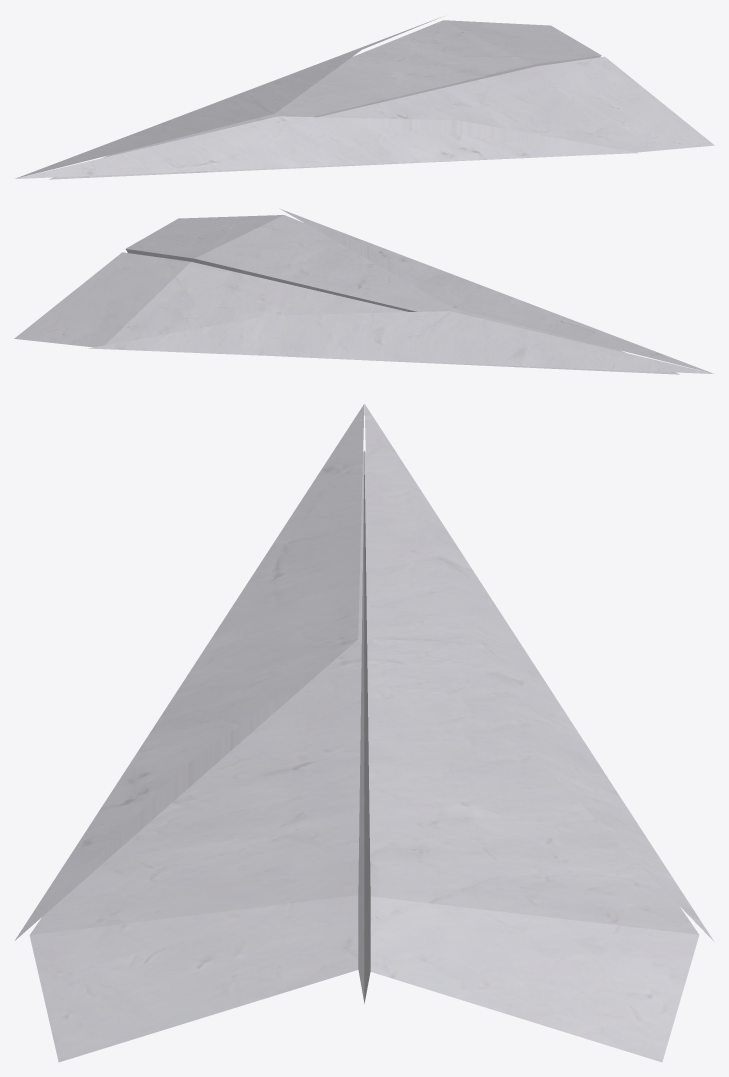
File: dart.glb
3 renders of one model, top to bottom at view 1: azimuth 30°, elevation 25°; view 2: azimuth 150°, elevation 25°; view 3: azimuth 270°, elevation 25°, orthographic. The views are drawn at different scales.
Visible parts, largest first — view 1: Plane.004; view 2: Plane.004; view 3: Plane.004.
Boxes of the visible parts, left/top/right/bottom form: Plane.004: left=15, top=16, right=714, bottom=179; Plane.004: left=14, top=208, right=713, bottom=374; Plane.004: left=14, top=404, right=714, bottom=1062.
Size of the model in its own units: 2.16 by 0.1889 by 1.15.
1 material, 1 textured.
